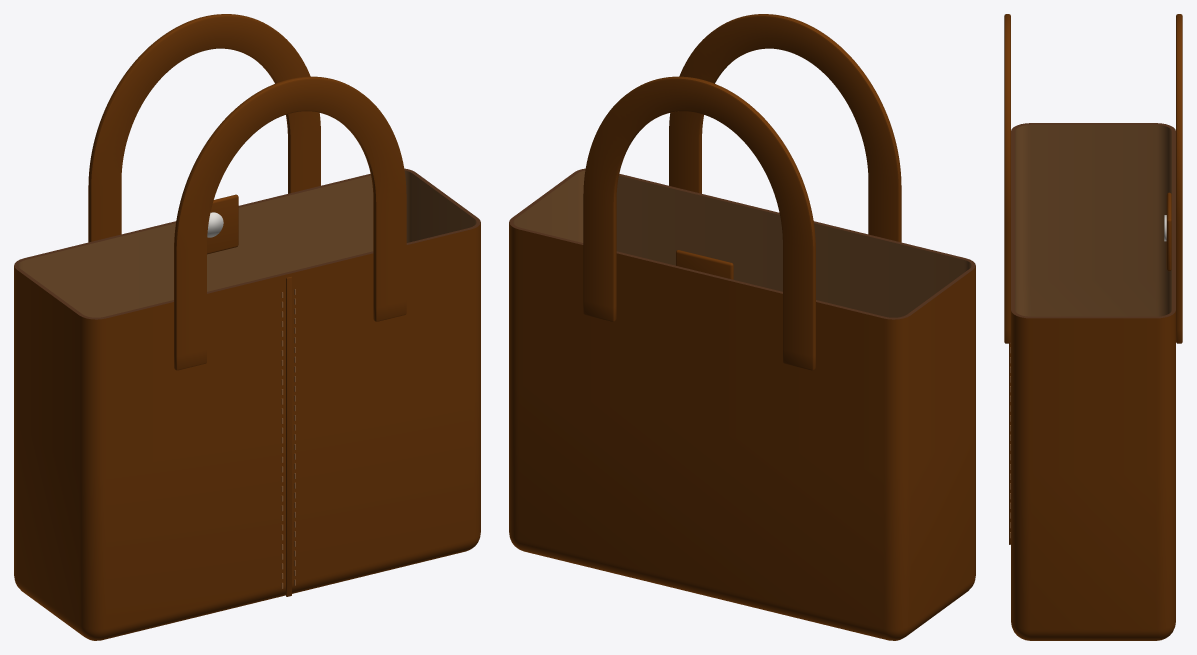
The model's file is m_mupza4o80n1r.glb.
3 views of the same model, side by side, from view 1: azimuth 30°, elevation 25°; view 2: azimuth 150°, elevation 25°; view 3: azimuth 270°, elevation 25° (orthographic).
Parts seen in each view (by area): view 1: Body, HandleFront, HandleBack, Seam, ClosureTab, Stitches; view 2: Body, HandleBack, HandleFront, ClosureTab; view 3: Body, HandleBack, HandleFront, ClosureTab, Seam.
Boxes of the visible parts, x1=… form: Body: x1=14, y1=168, x2=480, y2=640; HandleFront: x1=174, y1=76, x2=406, y2=370; HandleBack: x1=88, y1=14, x2=320, y2=242; Seam: x1=286, y1=276, x2=291, y2=596; ClosureTab: x1=207, y1=194, x2=238, y2=254; Stitches: x1=281, y1=289, x2=295, y2=588; Body: x1=509, y1=168, x2=975, y2=640; HandleBack: x1=583, y1=76, x2=815, y2=370; HandleFront: x1=669, y1=14, x2=901, y2=242; ClosureTab: x1=676, y1=250, x2=733, y2=279; Body: x1=1011, y1=123, x2=1175, y2=640; HandleBack: x1=1176, y1=14, x2=1182, y2=343; HandleFront: x1=1004, y1=14, x2=1010, y2=343; ClosureTab: x1=1166, y1=192, x2=1171, y2=271; Seam: x1=1009, y1=343, x2=1010, y2=544.
Bounding box in the file's own units: 0.28 × 0.351 × 0.108.
